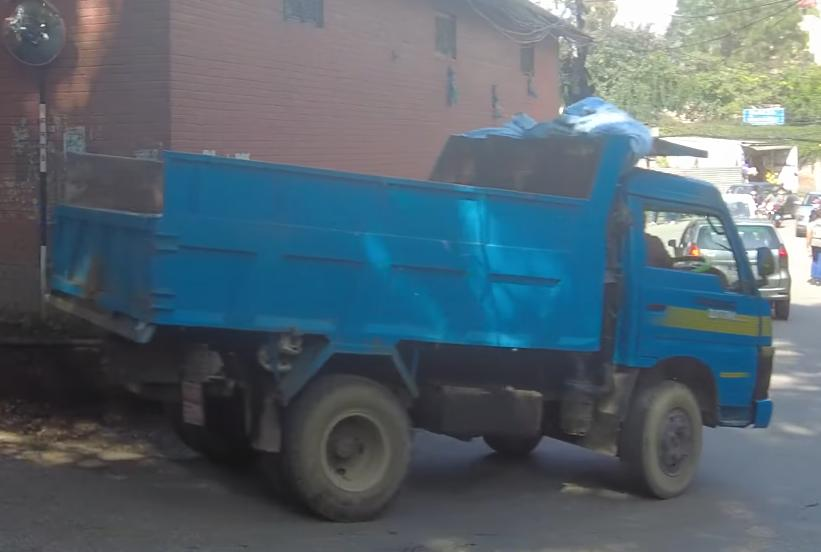car: (690, 198, 799, 331)
mini_truck: (18, 87, 787, 515)
